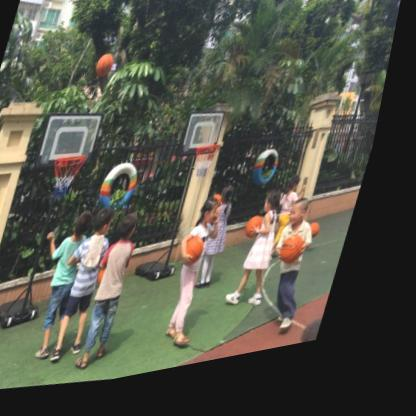basketball: (288, 244, 320, 280), (254, 226, 276, 253), (97, 57, 119, 83)
rim: (52, 156, 94, 206), (195, 152, 228, 189)
